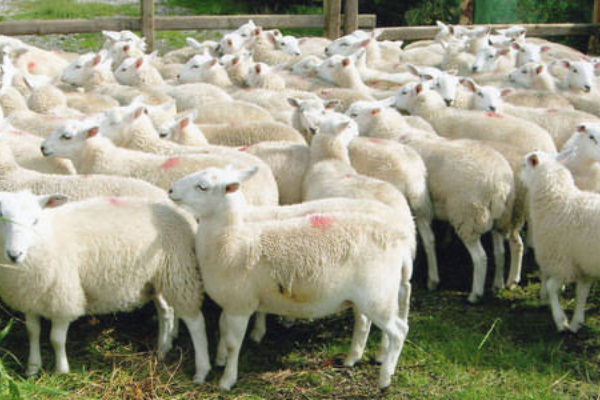sheep: (171, 178, 410, 342), (1, 181, 174, 337), (36, 122, 254, 199), (254, 93, 386, 185), (105, 51, 256, 118), (507, 148, 600, 253), (326, 91, 451, 165), (486, 28, 589, 88), (451, 76, 545, 134), (308, 31, 397, 90), (58, 54, 141, 108), (228, 31, 316, 81), (383, 58, 451, 121)
